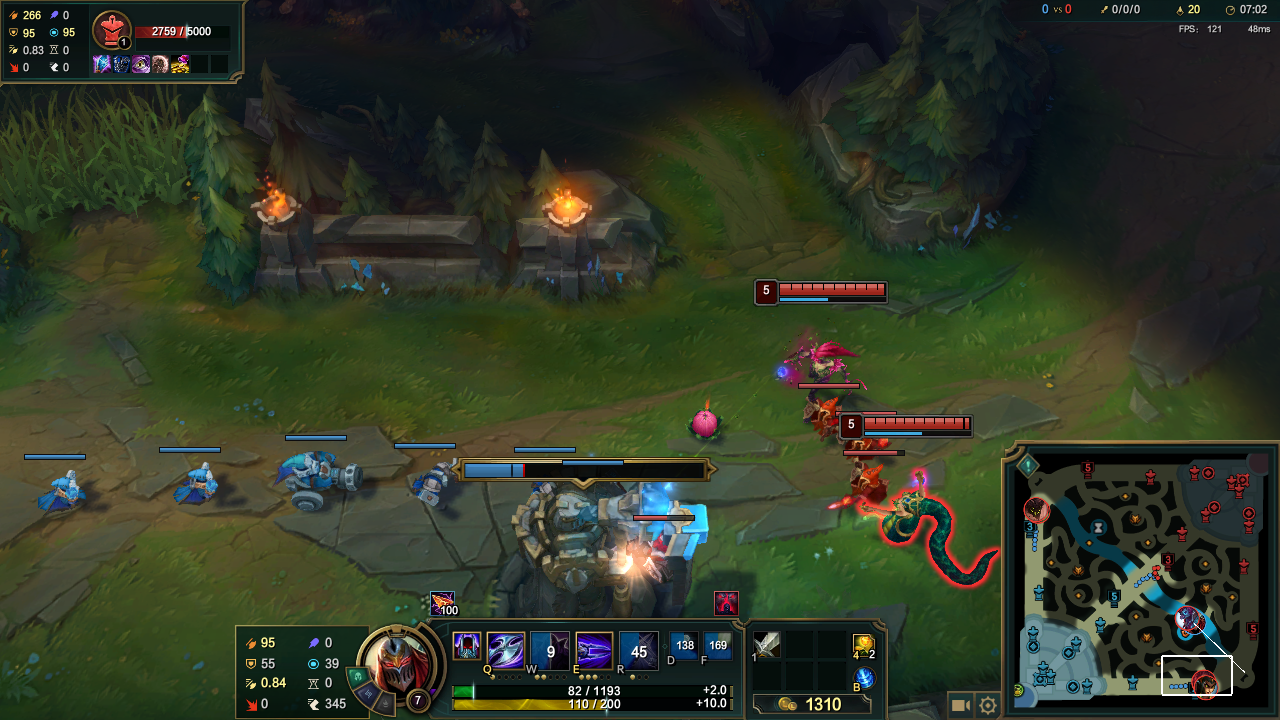DFYX: (863, 415, 971, 435), (779, 284, 889, 300)
